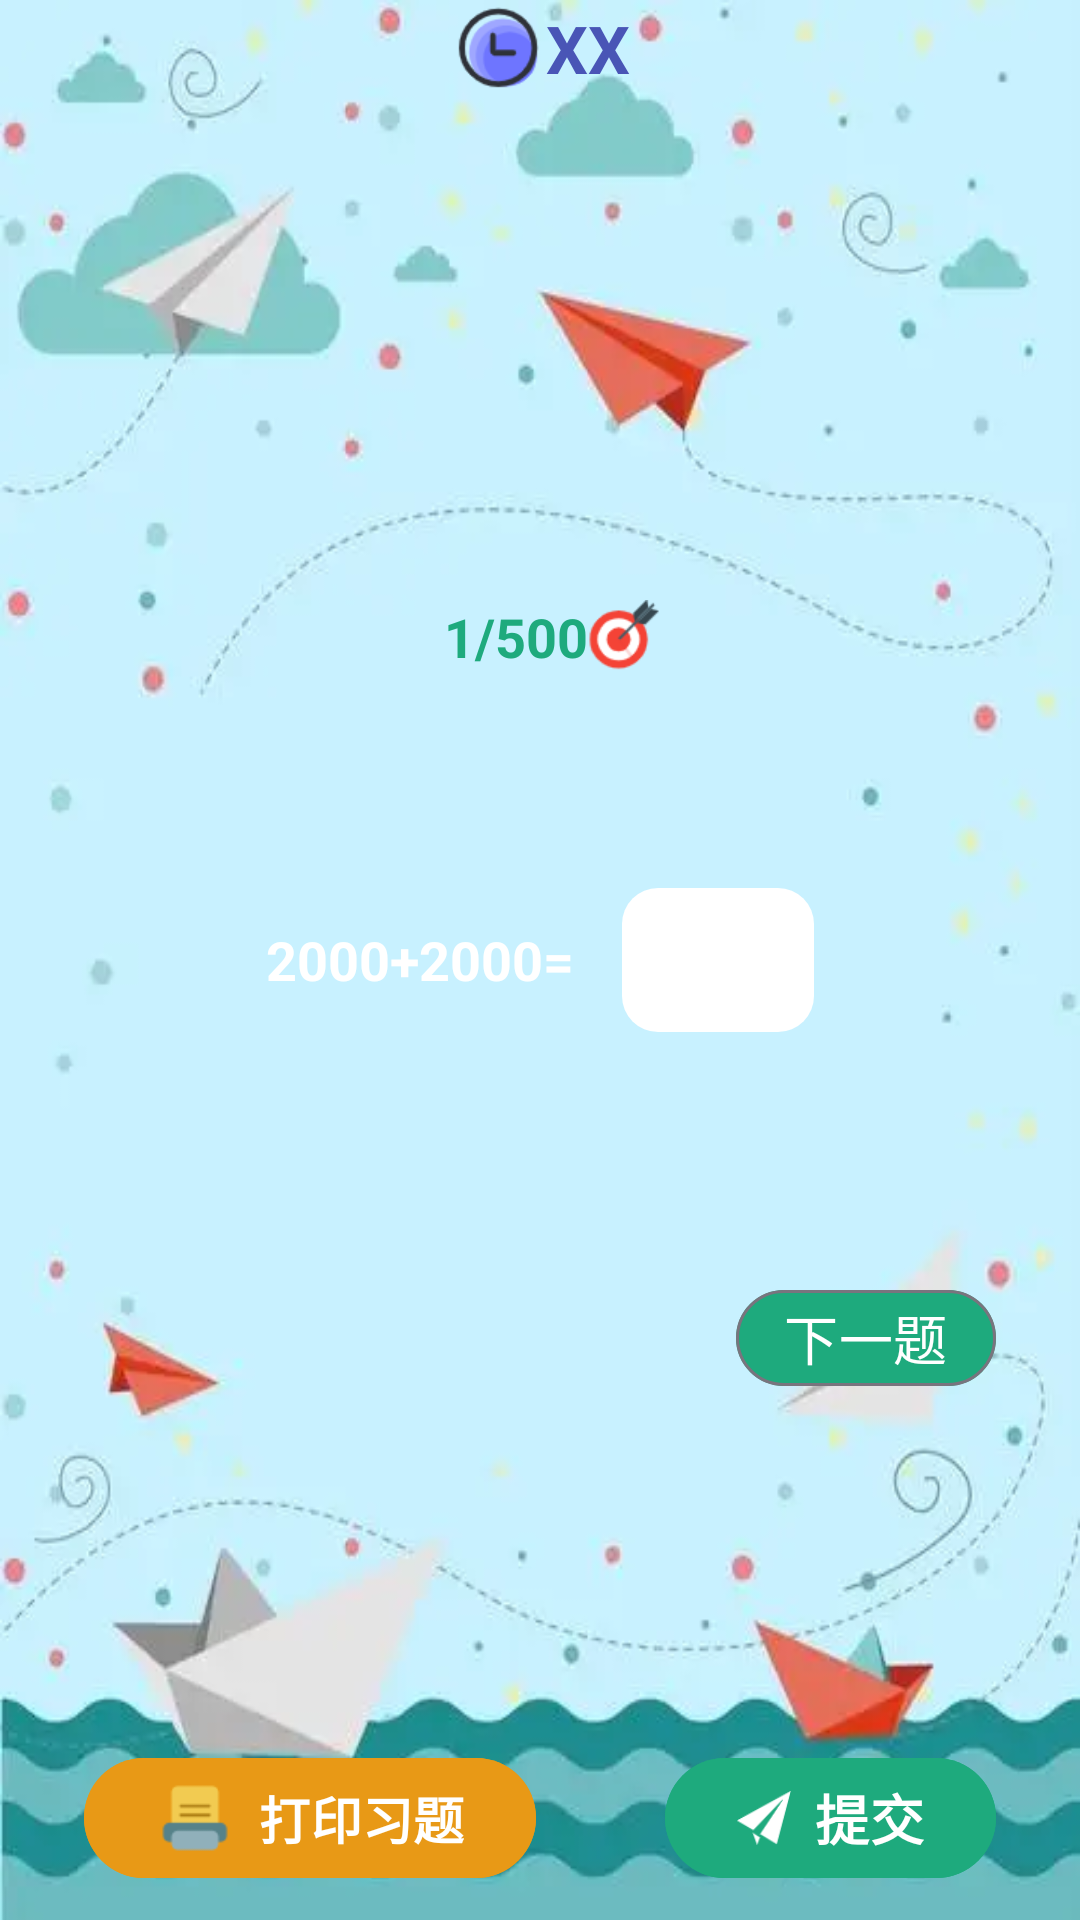

Where icons sit on this 1080px x 1920px app screen, as [x1, y1, x2, y2]:
target: [589, 600, 659, 669]
time: [458, 8, 538, 88]
